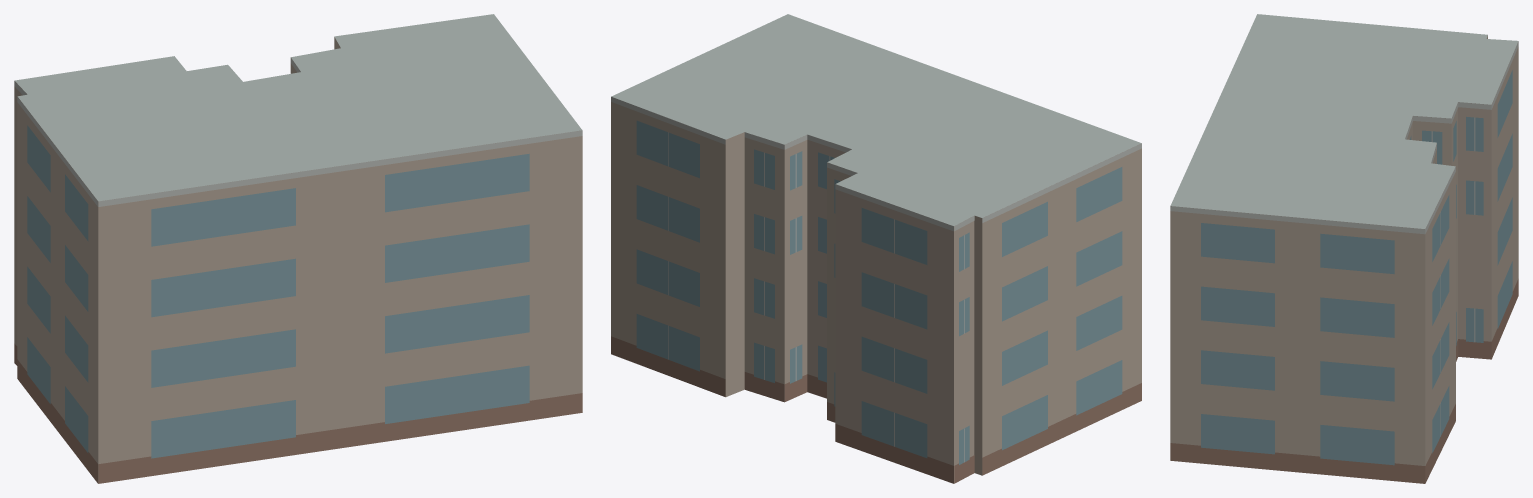
Rendered from survey-upis-32847239.glb.
3 renders of one model, left to right at view 1: azimuth 30°, elevation 25°; view 2: azimuth 150°, elevation 25°; view 3: azimuth 270°, elevation 25°, orthographic. The views are drawn at different scales.
Visible parts, largest first — view 1: survey-upis-32847239.tmp; view 2: survey-upis-32847239.tmp; view 3: survey-upis-32847239.tmp.
Boxes of the visible parts, left/top/right/bottom form: survey-upis-32847239.tmp: left=14, top=14, right=582, bottom=483; survey-upis-32847239.tmp: left=611, top=14, right=1141, bottom=483; survey-upis-32847239.tmp: left=1170, top=14, right=1518, bottom=483.
Bounding box in the file's own units: 21.93 × 12.1 × 15.
